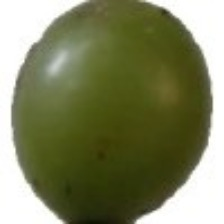grapes: (27, 0, 192, 188)
